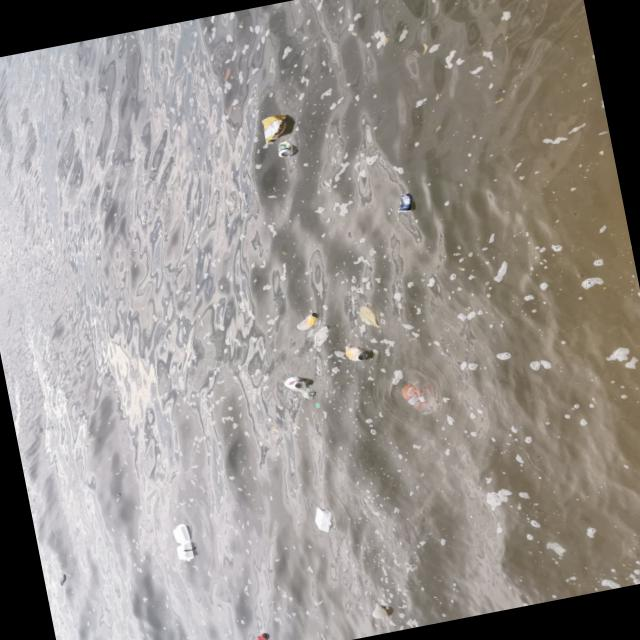can: (346, 343, 371, 365), (295, 312, 321, 331), (283, 375, 309, 392), (396, 193, 414, 215), (277, 140, 296, 158), (251, 634, 271, 640)
foam: (174, 523, 197, 563), (313, 506, 336, 535)
